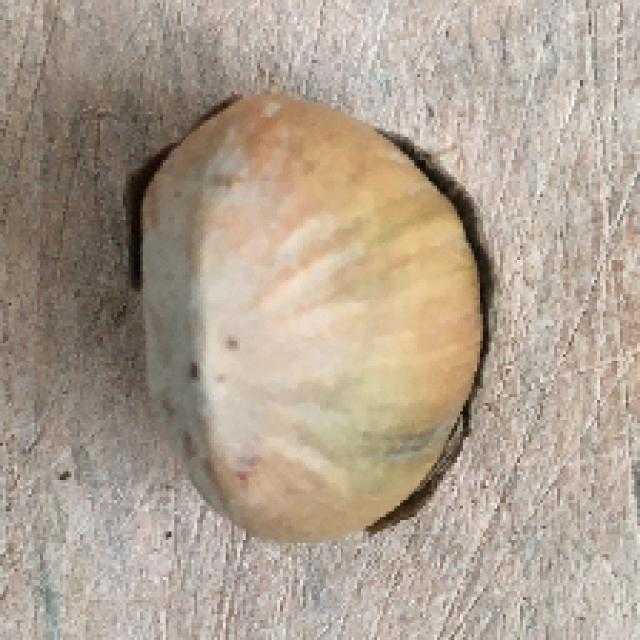damagedHazelnut: (112, 84, 502, 538)
